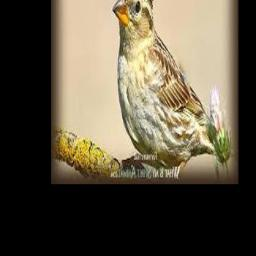Sparrow: (113, 0, 223, 172)
